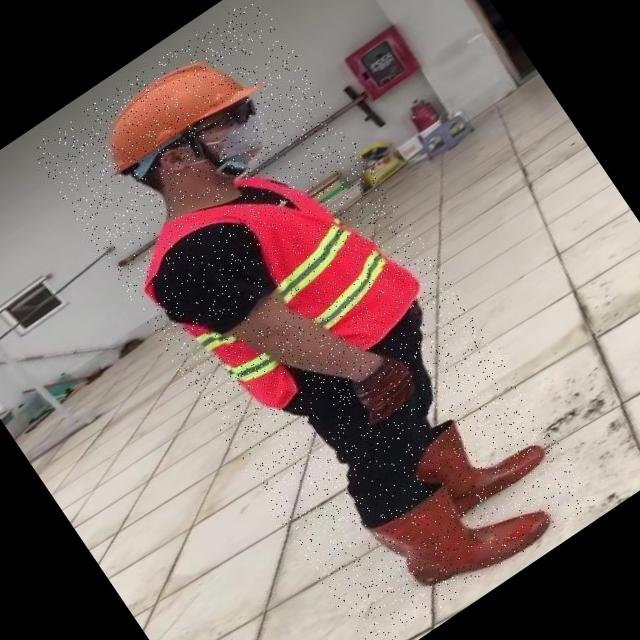hard_hat: (77, 32, 256, 186)
safety_vest: (117, 125, 440, 438)
vehicle: (29, 0, 598, 640)
work_boots: (370, 445, 552, 614), (402, 385, 554, 526)
